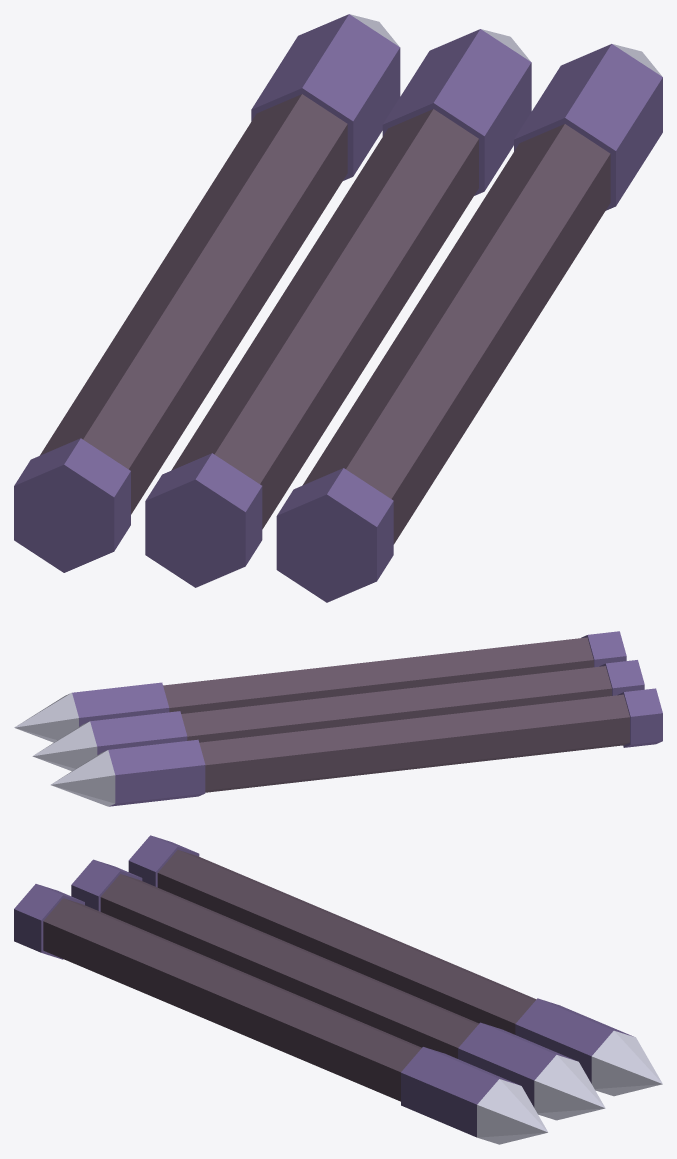
The model's file is ce_ammo2_s8_thermo_b.obj.
3 renders of one model, top to bottom at view 1: azimuth 30°, elevation 25°; view 2: azimuth 150°, elevation 25°; view 3: azimuth 270°, elevation 25°, orthographic. The views are drawn at different scales.
Parts seen in each view (by area): view 1: ce_ammo2_s8_thermo_b_9, ce_ammo2_s8_thermo_b_1, ce_ammo2_s8_thermo_b_5, ce_ammo2_s8_thermo_b_8, ce_ammo2_s8_thermo_b_4, ce_ammo2_s8_thermo_b_0, ce_ammo2_s8_thermo_b_10, ce_ammo2_s8_thermo_b_2, ce_ammo2_s8_thermo_b_6; view 2: ce_ammo2_s8_thermo_b_1, ce_ammo2_s8_thermo_b_9, ce_ammo2_s8_thermo_b_5, ce_ammo2_s8_thermo_b_2, ce_ammo2_s8_thermo_b_10, ce_ammo2_s8_thermo_b_6, ce_ammo2_s8_thermo_b_3, ce_ammo2_s8_thermo_b_0, ce_ammo2_s8_thermo_b_7, ce_ammo2_s8_thermo_b_11, ce_ammo2_s8_thermo_b_8, ce_ammo2_s8_thermo_b_4; view 3: ce_ammo2_s8_thermo_b_9, ce_ammo2_s8_thermo_b_1, ce_ammo2_s8_thermo_b_5, ce_ammo2_s8_thermo_b_10, ce_ammo2_s8_thermo_b_6, ce_ammo2_s8_thermo_b_2, ce_ammo2_s8_thermo_b_3, ce_ammo2_s8_thermo_b_11, ce_ammo2_s8_thermo_b_7, ce_ammo2_s8_thermo_b_8, ce_ammo2_s8_thermo_b_0, ce_ammo2_s8_thermo_b_4.
Boxes of the visible parts, bbox=[...] form: ce_ammo2_s8_thermo_b_9: bbox=[302, 124, 610, 544]; ce_ammo2_s8_thermo_b_1: bbox=[40, 94, 347, 514]; ce_ammo2_s8_thermo_b_5: bbox=[171, 109, 478, 529]; ce_ammo2_s8_thermo_b_8: bbox=[276, 468, 393, 602]; ce_ammo2_s8_thermo_b_4: bbox=[145, 453, 262, 587]; ce_ammo2_s8_thermo_b_0: bbox=[14, 438, 130, 572]; ce_ammo2_s8_thermo_b_10: bbox=[514, 44, 662, 210]; ce_ammo2_s8_thermo_b_2: bbox=[251, 14, 400, 180]; ce_ammo2_s8_thermo_b_6: bbox=[382, 29, 531, 195]; ce_ammo2_s8_thermo_b_1: bbox=[199, 694, 629, 792]; ce_ammo2_s8_thermo_b_9: bbox=[163, 637, 593, 713]; ce_ammo2_s8_thermo_b_5: bbox=[181, 666, 611, 742]; ce_ammo2_s8_thermo_b_2: bbox=[108, 739, 205, 806]; ce_ammo2_s8_thermo_b_10: bbox=[72, 682, 169, 726]; ce_ammo2_s8_thermo_b_6: bbox=[90, 711, 187, 754]; ce_ammo2_s8_thermo_b_3: bbox=[50, 750, 115, 806]; ce_ammo2_s8_thermo_b_0: bbox=[617, 688, 662, 747]; ce_ammo2_s8_thermo_b_7: bbox=[32, 721, 97, 771]; ce_ammo2_s8_thermo_b_11: bbox=[14, 693, 78, 742]; ce_ammo2_s8_thermo_b_8: bbox=[581, 631, 626, 667]; ce_ammo2_s8_thermo_b_4: bbox=[599, 660, 644, 695]; ce_ammo2_s8_thermo_b_9: bbox=[43, 898, 421, 1101]; ce_ammo2_s8_thermo_b_1: bbox=[157, 850, 536, 1034]; ce_ammo2_s8_thermo_b_5: bbox=[100, 874, 478, 1058]; ce_ammo2_s8_thermo_b_10: bbox=[401, 1047, 519, 1137]; ce_ammo2_s8_thermo_b_6: bbox=[458, 1022, 576, 1107]; ce_ammo2_s8_thermo_b_2: bbox=[515, 998, 633, 1083]; ce_ammo2_s8_thermo_b_3: bbox=[591, 1030, 662, 1096]; ce_ammo2_s8_thermo_b_11: bbox=[477, 1079, 548, 1144]; ce_ammo2_s8_thermo_b_7: bbox=[534, 1055, 605, 1120]; ce_ammo2_s8_thermo_b_8: bbox=[14, 884, 84, 959]; ce_ammo2_s8_thermo_b_0: bbox=[128, 835, 199, 887]; ce_ammo2_s8_thermo_b_4: bbox=[71, 859, 142, 911].
Bounding box in the file's own units: 0.8415 × 0.0941 × 0.8415.
